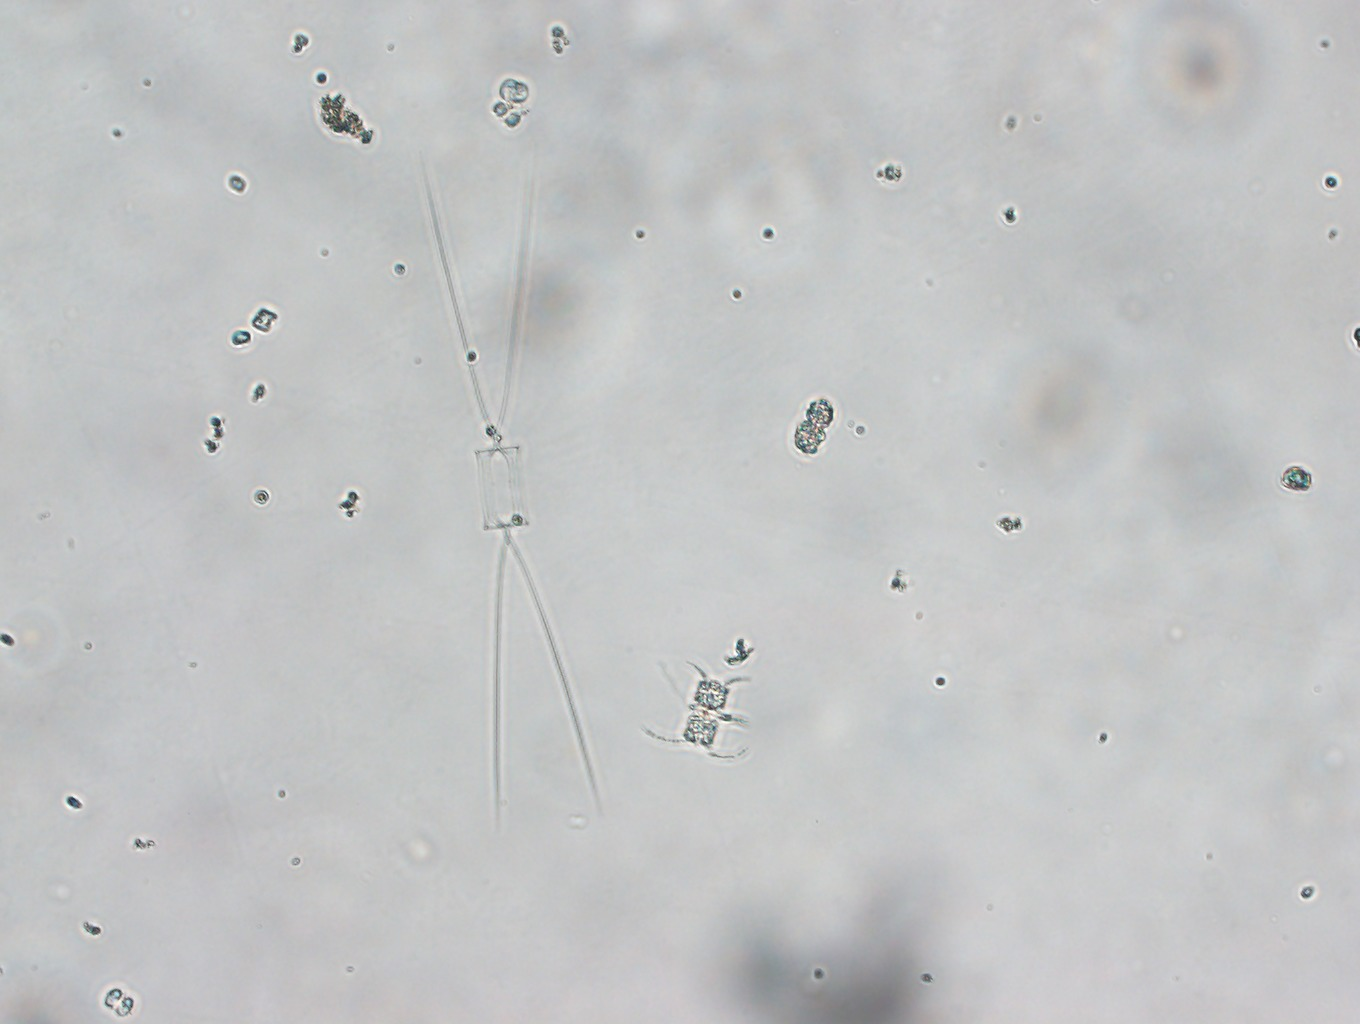chaetoceros: (401, 156, 610, 831)
